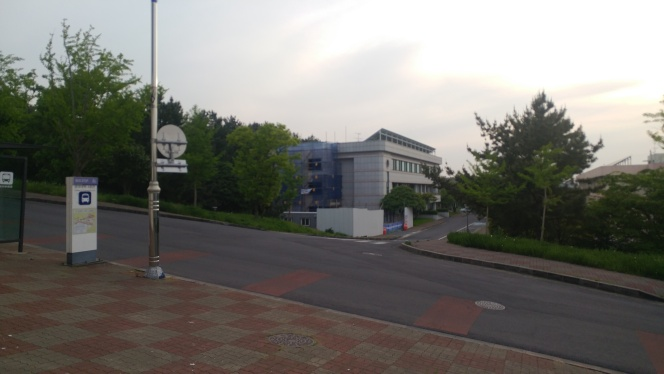Information Telecommunication Center: (278, 126, 455, 239), (342, 131, 452, 205), (353, 143, 442, 197)
